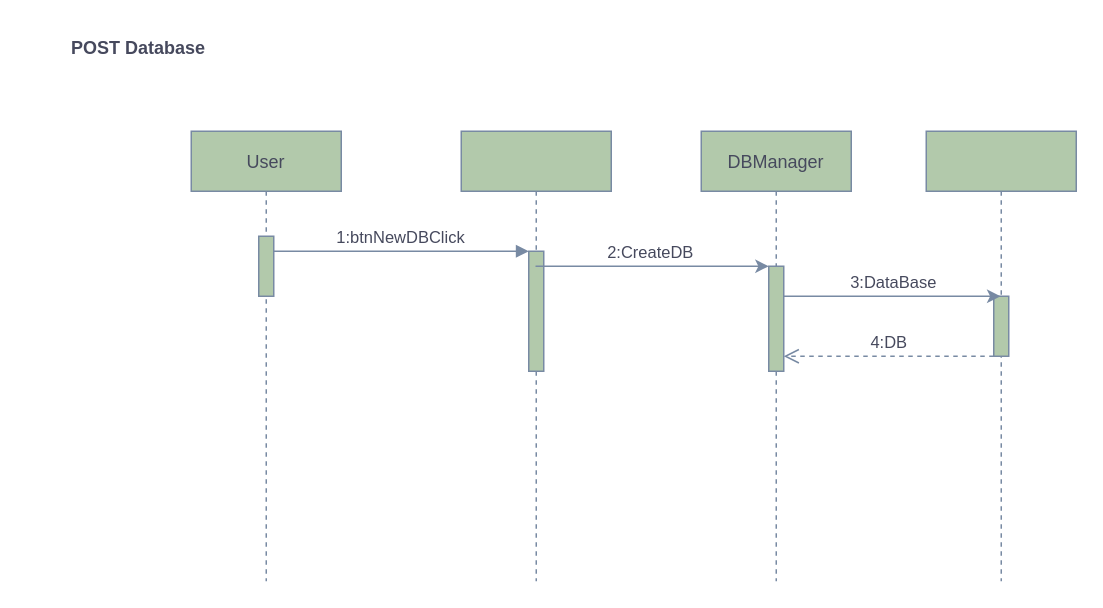
The diagram is 1103 pixels wide and 608 high, and some of its shapes have lost their labels. Each missing label, with the centre of its shape:
DataBase: point 1000,355
UI: point 535,355
